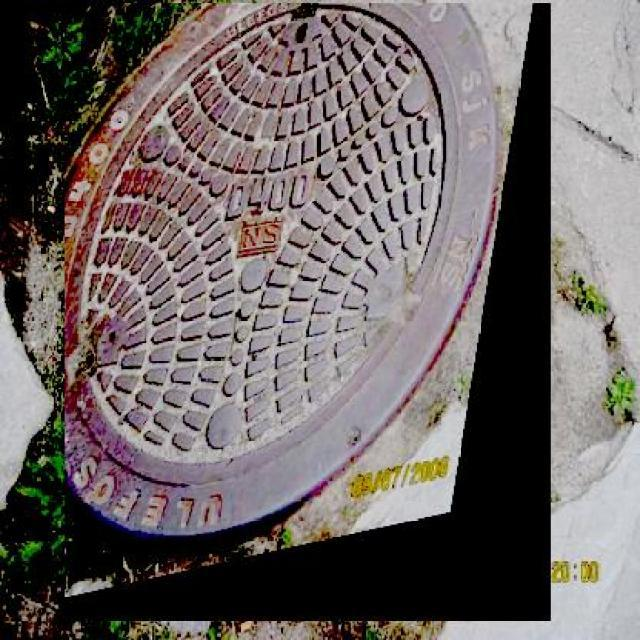Manhole: (66, 3, 552, 620)
